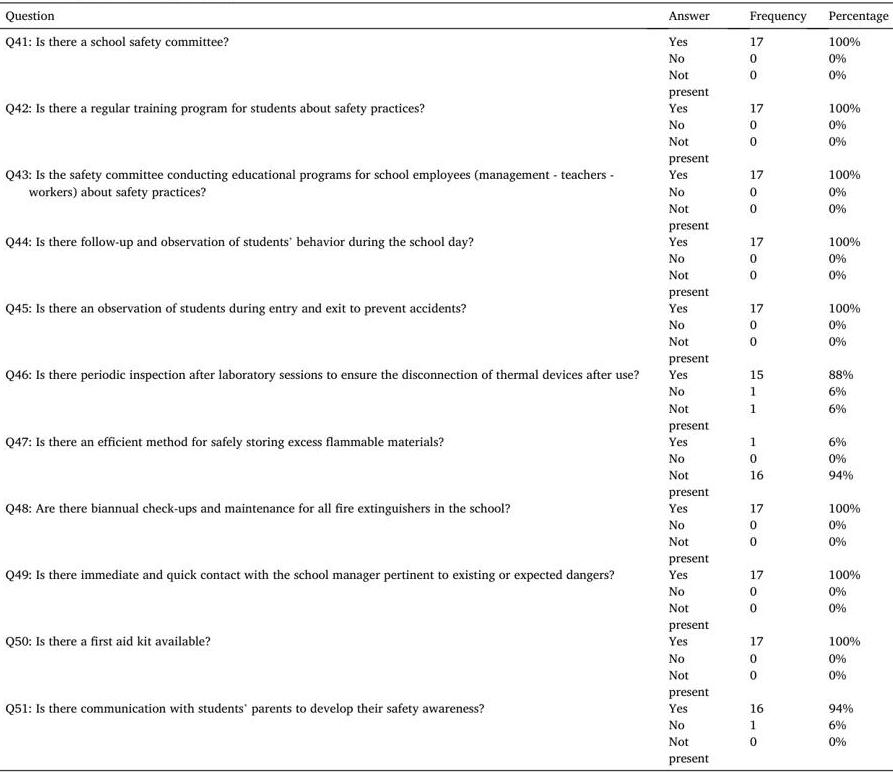table: (4, 4, 888, 767)
table column: (4, 4, 653, 767), (729, 4, 817, 767), (653, 4, 729, 767), (817, 4, 888, 767)
table column header: (4, 4, 888, 27)
table row: (4, 731, 888, 767), (4, 198, 888, 232), (4, 398, 888, 432), (4, 65, 888, 98), (4, 132, 888, 165), (4, 265, 888, 298), (4, 332, 888, 365), (4, 465, 888, 498), (4, 532, 888, 565), (4, 598, 888, 631), (4, 665, 888, 698), (4, 4, 888, 27), (4, 27, 888, 48), (4, 48, 888, 65), (4, 98, 888, 115), (4, 115, 888, 132), (4, 165, 888, 182), (4, 248, 888, 265), (4, 298, 888, 315), (4, 315, 888, 332), (4, 365, 888, 382), (4, 448, 888, 465), (4, 498, 888, 515), (4, 515, 888, 532), (4, 565, 888, 582), (4, 631, 888, 648), (4, 648, 888, 665), (4, 698, 888, 715), (4, 182, 888, 198), (4, 232, 888, 248), (4, 382, 888, 398), (4, 432, 888, 448), (4, 582, 888, 598), (4, 715, 888, 731)
table spanning cell: (4, 27, 653, 98), (4, 698, 653, 767), (4, 98, 653, 165), (4, 165, 653, 232), (4, 298, 653, 365), (4, 365, 653, 432), (4, 498, 653, 565), (4, 631, 653, 698), (4, 232, 653, 298), (4, 432, 653, 498), (4, 565, 653, 631)
